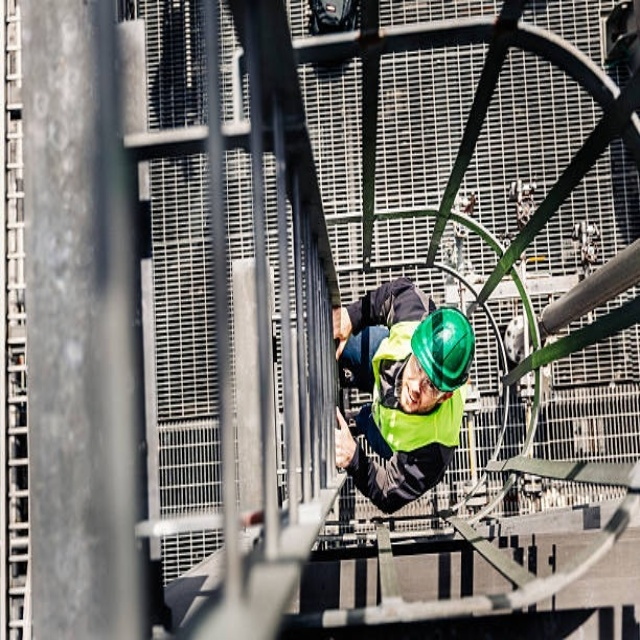Gafas: (410, 353, 448, 403)
Sin_guantes: (333, 404, 357, 471), (332, 305, 352, 348)
Sin_mascara: (403, 381, 418, 414)
